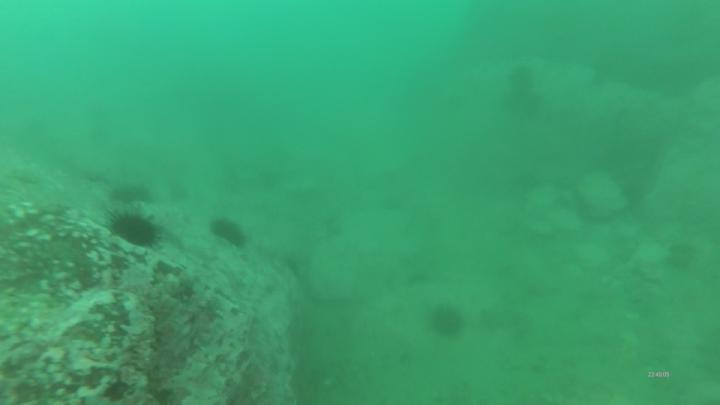echinus: (103, 206, 168, 249), (208, 215, 250, 249), (430, 304, 467, 341), (108, 185, 153, 211), (506, 63, 539, 94)
